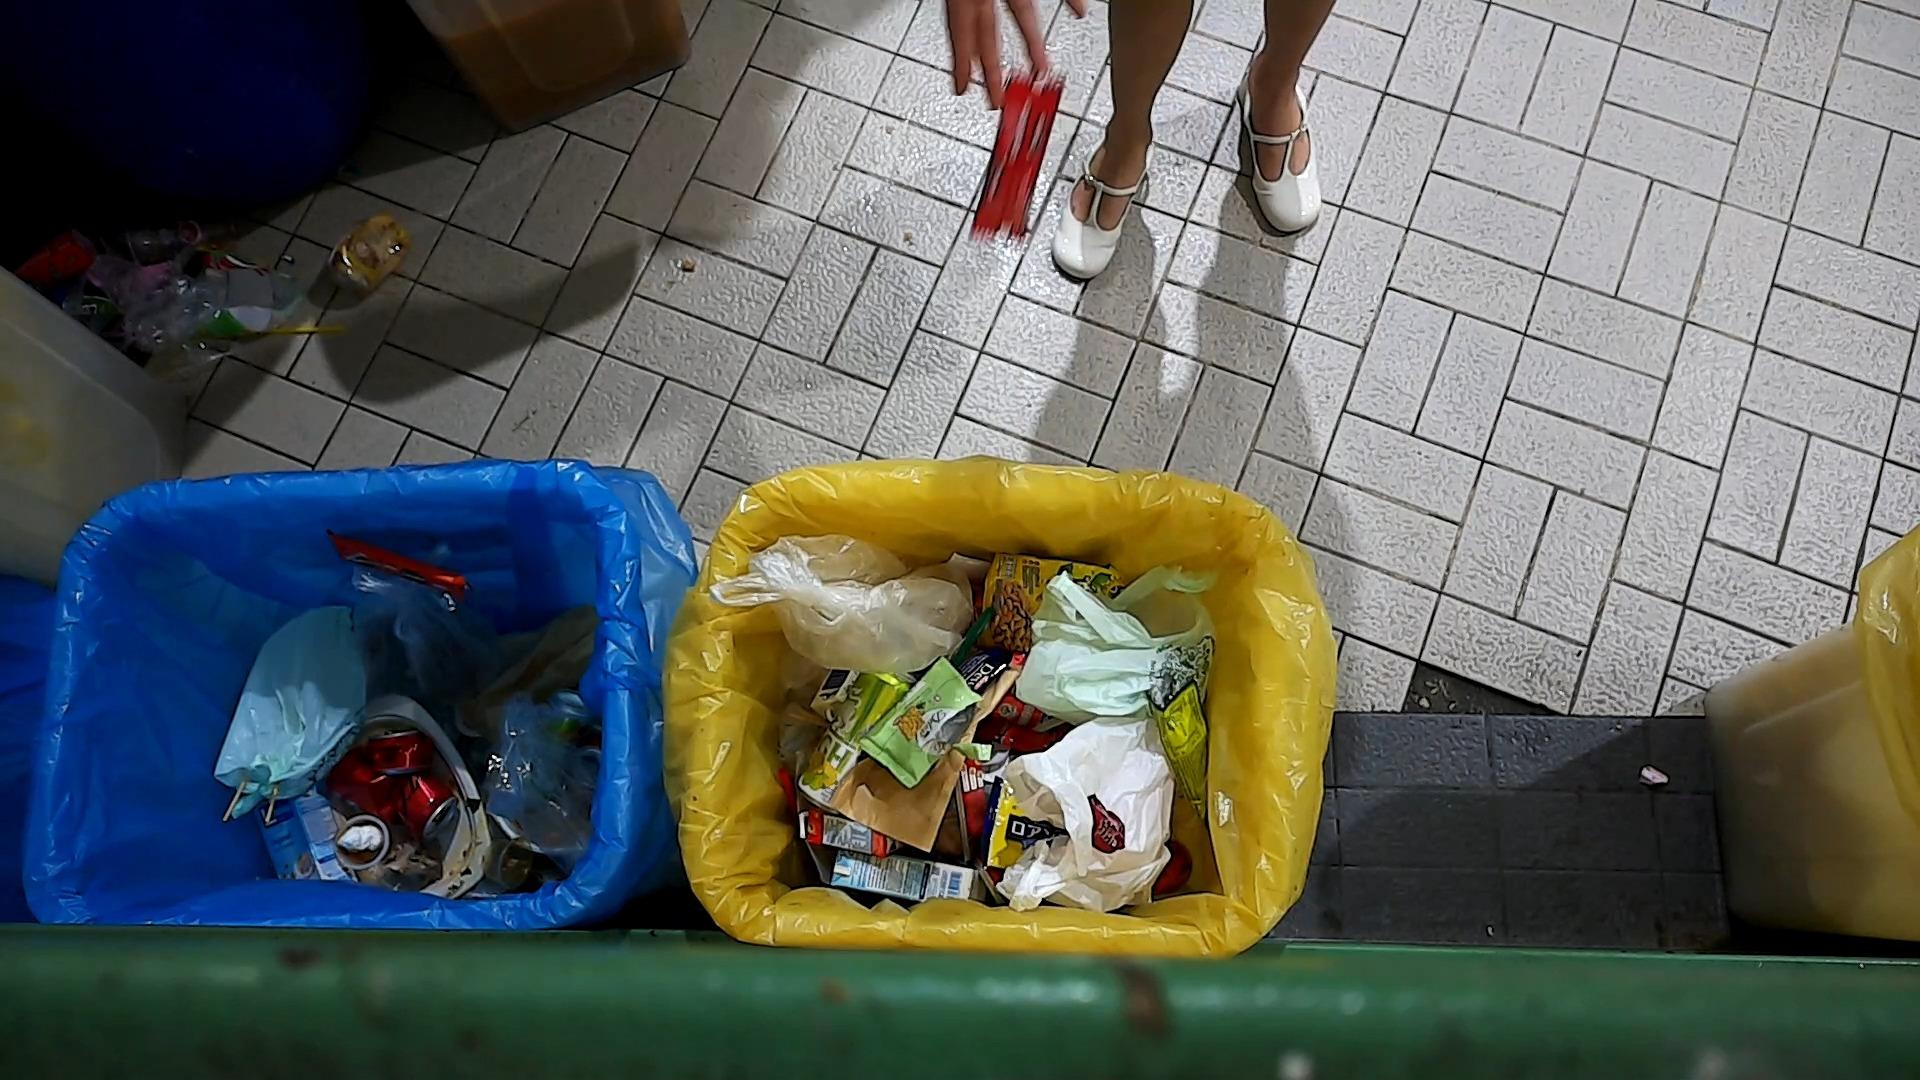can: (794, 667, 922, 811), (332, 727, 456, 840), (364, 728, 439, 779)
dirty food container: (328, 815, 394, 877)
filled plastic bag: (720, 525, 973, 669), (210, 599, 365, 818)
milk carton: (268, 791, 367, 884), (832, 847, 976, 902), (795, 798, 914, 858)
paper bag: (480, 605, 596, 704)
plastic bag: (1033, 568, 1222, 765), (1011, 717, 1183, 916)
snack packaging: (861, 658, 986, 793), (973, 551, 1122, 655), (1150, 671, 1212, 825), (322, 530, 468, 591)
